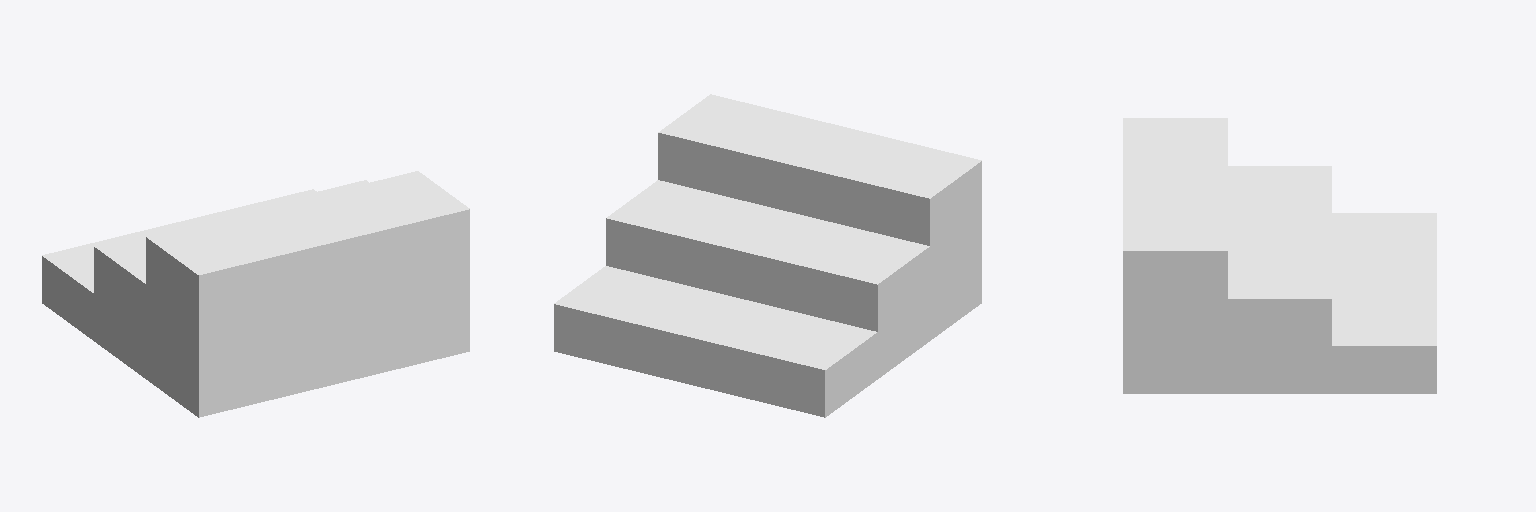
File: SideBlockC.obj
3 renders of one model, left to right at view 1: azimuth 30°, elevation 25°; view 2: azimuth 150°, elevation 25°; view 3: azimuth 270°, elevation 25°, orthographic.
Visible parts, largest first — view 1: object 1; view 2: object 1; view 3: object 1.
Part boxes in pixels (x1,y1,x2,y2): object 1: (42, 171, 469, 417); object 1: (554, 94, 981, 417); object 1: (1123, 118, 1436, 393).
Size of the model in its own units: 0.6 by 0.3 by 0.6.